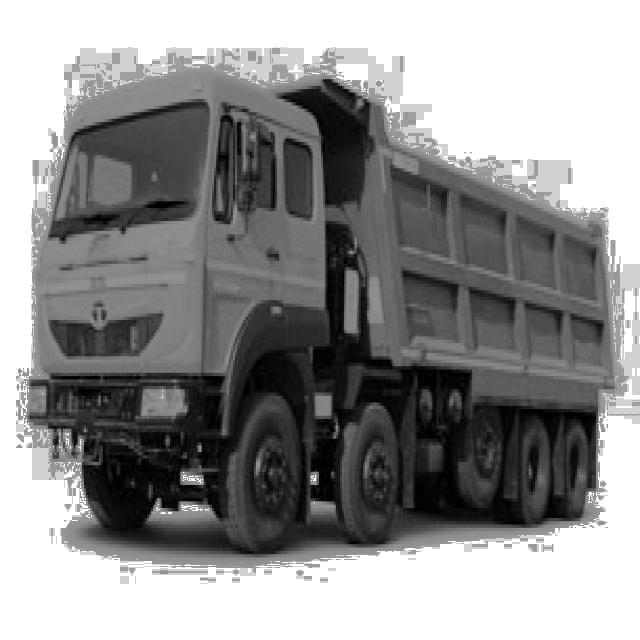HCV: (21, 34, 625, 564)
